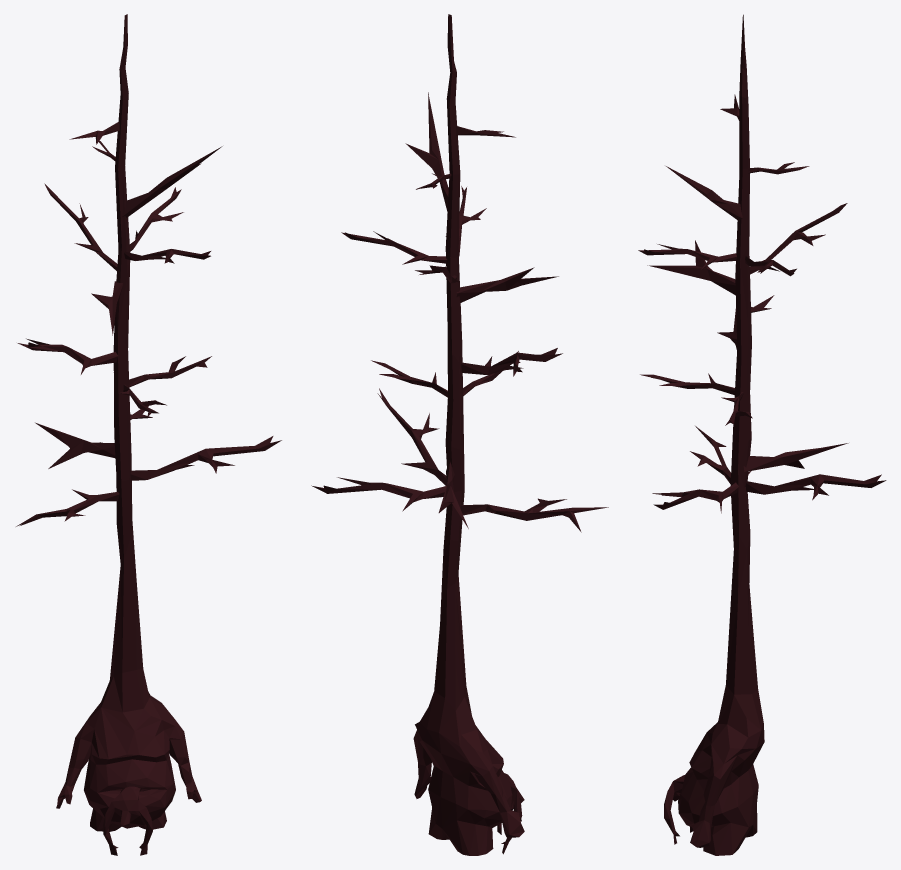
The model's file is longtree_body2.fbx.
3 views of the same model, side by side, from view 1: azimuth 30°, elevation 25°; view 2: azimuth 150°, elevation 25°; view 3: azimuth 270°, elevation 25° (orthographic). The views are drawn at different scales.
Visible parts, largest first — view 1: Chimera1.002; view 2: Chimera1.002; view 3: Chimera1.002.
Boxes of the visible parts, x1,y1,x2,y2 form: Chimera1.002: (16,14,281,855); Chimera1.002: (311,14,608,855); Chimera1.002: (638,14,886,855).
Bounding box in the file's own units: 1947 × 6253 × 1672.
